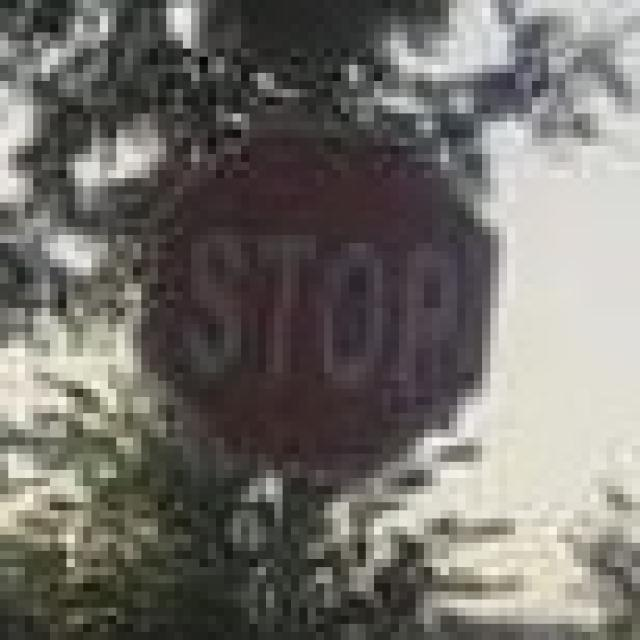stop: (140, 92, 507, 480)
